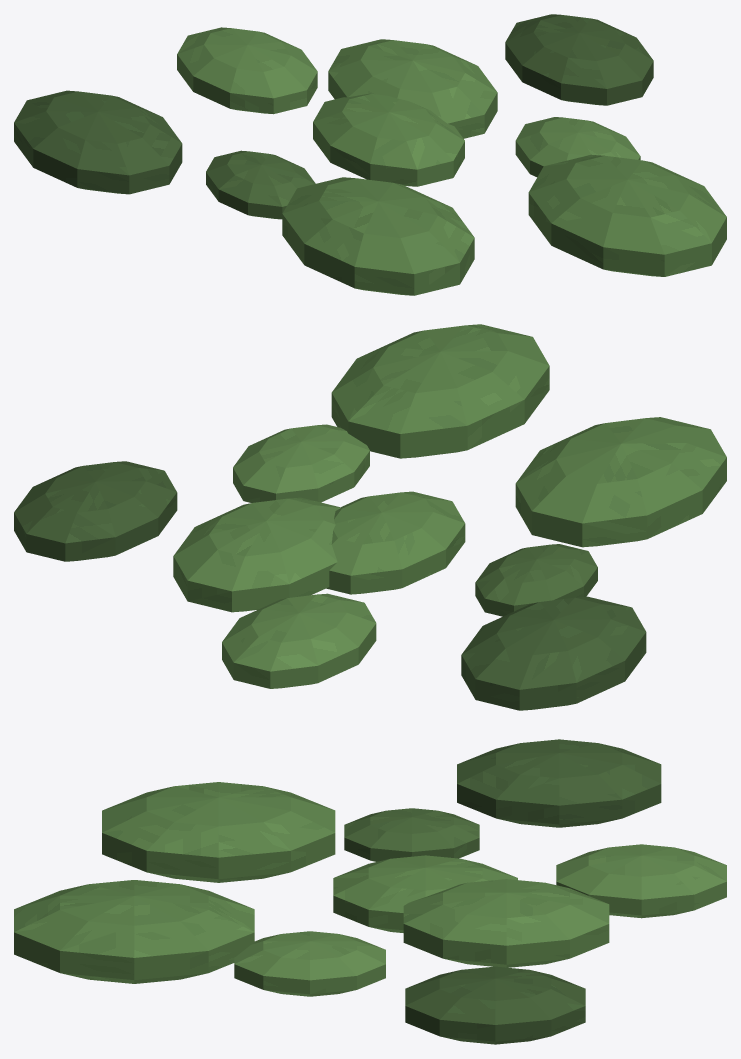
Rendered from seed_poppy_bud.glb.
The picture shows the model from 3 angles, top to bottom: view 1: azimuth 30°, elevation 25°; view 2: azimuth 150°, elevation 25°; view 3: azimuth 270°, elevation 25°; orthographic projection. The views are drawn at different scales.
Visible parts, largest first — view 1: block_grain 8, block_grain 5, block_grain 7, block_grain 0, block_grain 6, block_grain 1, block_grain 4, block_grain 2, block_grain 3; view 2: block_grain 8, block_grain 5, block_grain 7, block_grain 1, block_grain 6, block_grain 4, block_grain 0, block_grain 3, block_grain 2; view 3: block_grain 8, block_grain 5, block_grain 1, block_grain 7, block_grain 6, block_grain 4, block_grain 3, block_grain 0, block_grain 2.
Part boxes in pixels (box(x1,y1,x2,y2)): block_grain 8: box(528, 154, 726, 276); block_grain 5: box(282, 177, 474, 295); block_grain 7: box(14, 90, 182, 194); block_grain 0: box(313, 93, 464, 186); block_grain 6: box(505, 14, 653, 105); block_grain 1: box(328, 39, 497, 138); block_grain 4: box(177, 27, 317, 114); block_grain 2: box(206, 150, 315, 219); block_grain 3: box(515, 117, 640, 176); block_grain 8: box(331, 324, 549, 458); block_grain 5: box(515, 417, 726, 547); block_grain 7: box(461, 596, 646, 710); block_grain 1: box(173, 497, 341, 612); block_grain 6: box(14, 461, 177, 561); block_grain 4: box(222, 593, 376, 688); block_grain 0: box(326, 491, 465, 594); block_grain 3: box(233, 424, 369, 502); block_grain 2: box(475, 544, 597, 616); block_grain 8: box(14, 880, 254, 983); block_grain 5: box(102, 782, 335, 882); block_grain 1: box(403, 879, 609, 967); block_grain 7: box(457, 739, 661, 827); block_grain 6: box(405, 966, 585, 1044); block_grain 4: box(556, 844, 726, 918); block_grain 3: box(234, 931, 385, 996); block_grain 0: box(333, 855, 517, 932); block_grain 2: box(344, 808, 479, 861).
Size of the model in its own units: 0.061 by 0.00738 by 0.0661.
Materials: 1 (1 with a texture image).
